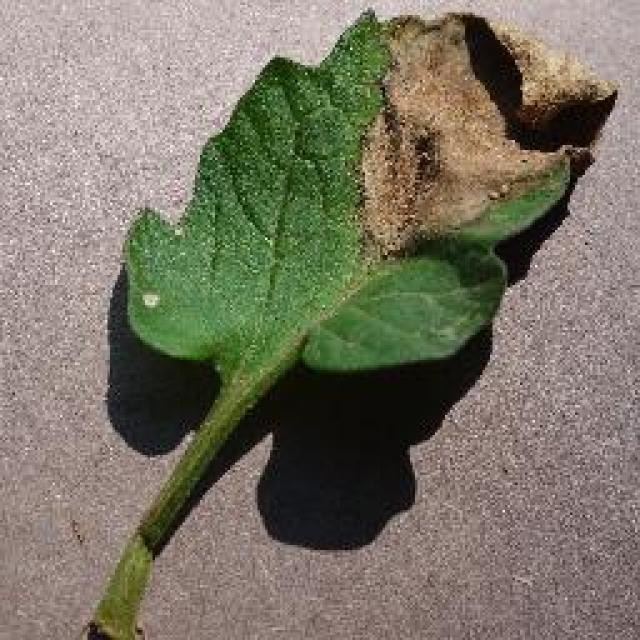Tomato_Late_Blight: (340, 0, 625, 265)
